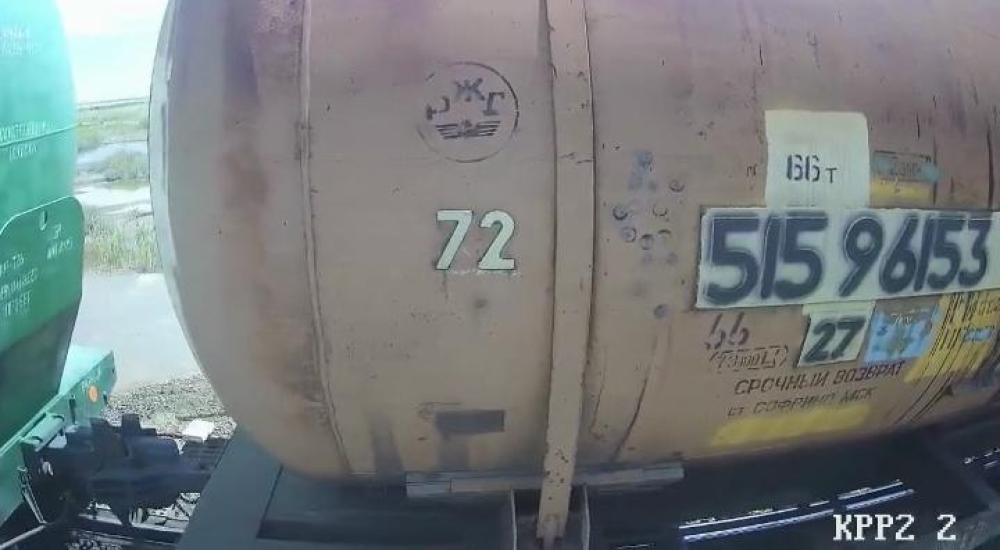Wagon-number: (698, 210, 994, 307)
